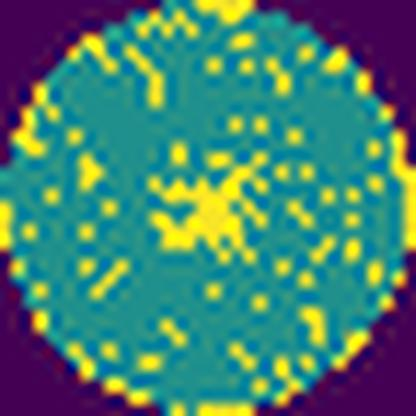Center: (150, 166, 268, 252)
